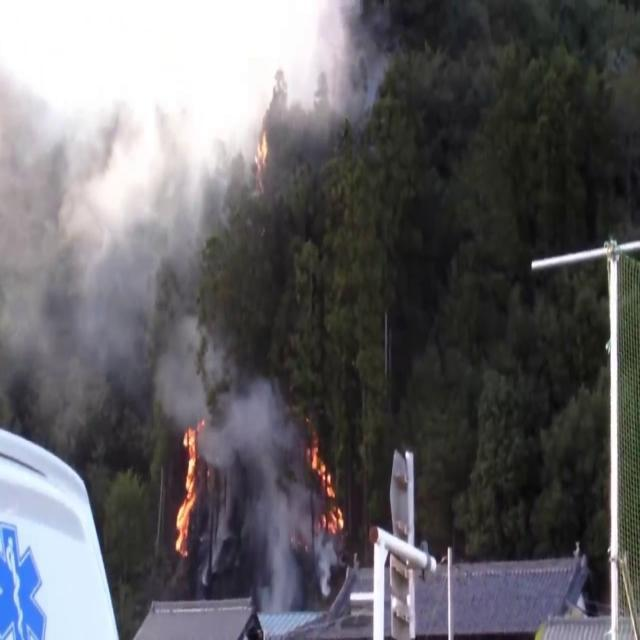Fire: (170, 415, 205, 558), (307, 436, 345, 550)
Smoke: (0, 47, 223, 444), (220, 363, 314, 602)
